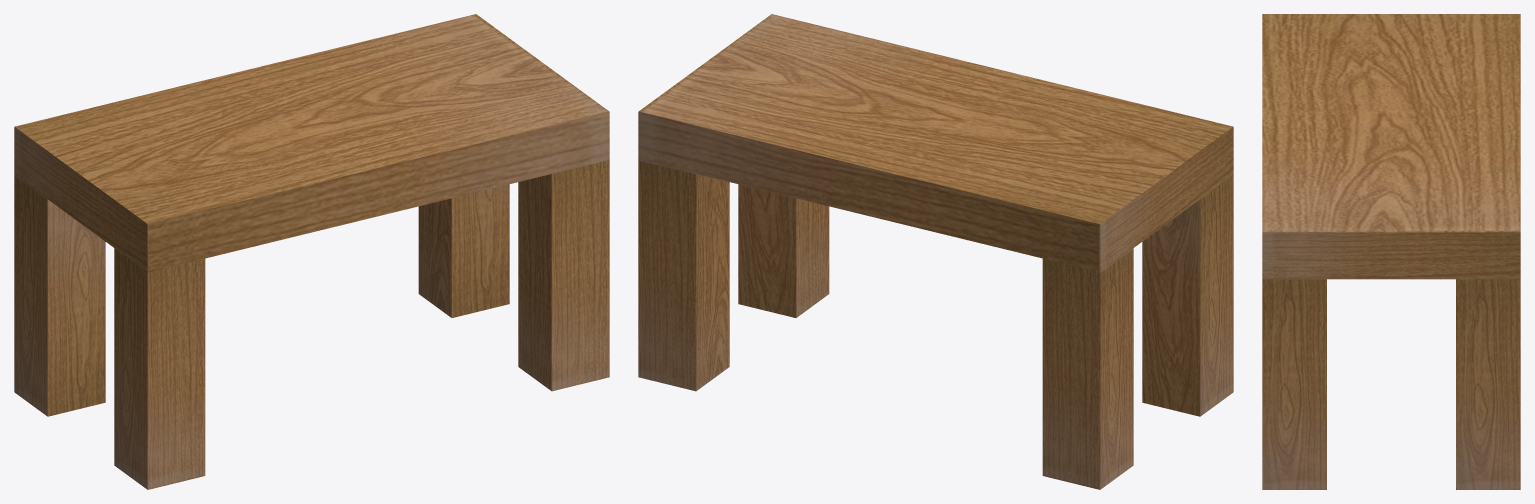
The model's file is Mesa.fbx.
3 renders of one model, left to right at view 1: azimuth 30°, elevation 25°; view 2: azimuth 150°, elevation 25°; view 3: azimuth 270°, elevation 25°, orthographic. The views are drawn at different scales.
Visible parts, largest first — view 1: Cube.004; view 2: Cube.004; view 3: Cube.004.
Part boxes in pixels (<box>): Cube.004: <box>14,14,609,489</box>; Cube.004: <box>638,14,1233,489</box>; Cube.004: <box>1262,14,1520,489</box>.
Size of the model in its own units: 125 by 68.75 by 62.5.
